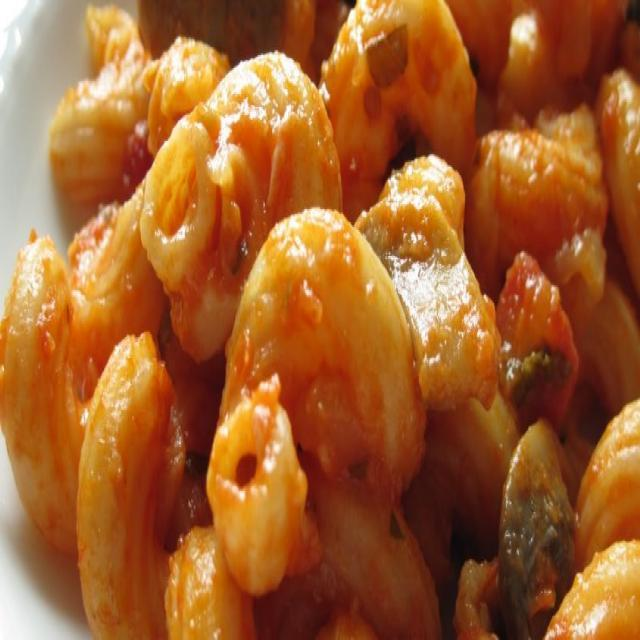Pasta al ragu: (50, 8, 620, 604)
